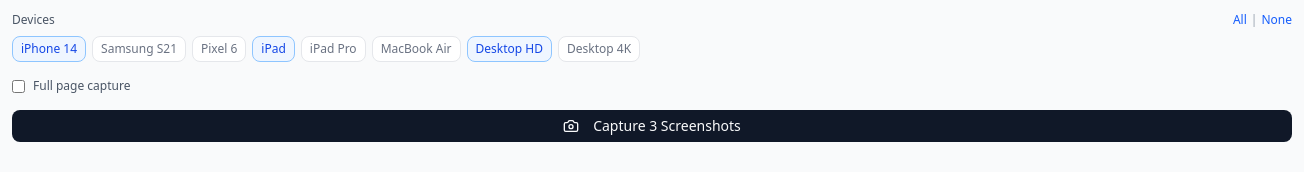
Test: Screenshot capture › device selection › should disable capture button when no devices selected
The image size is (1304, 172).
Click the button "None". click: coordinates (1277, 20)
box: x1=1261 y1=12 x2=1292 y2=28
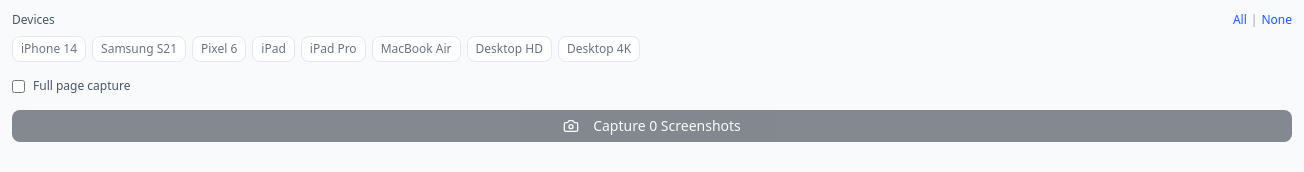
Expected: the button "Capture 0 Screenshots" is disabled, x1=12 y1=110 x2=1292 y2=142
